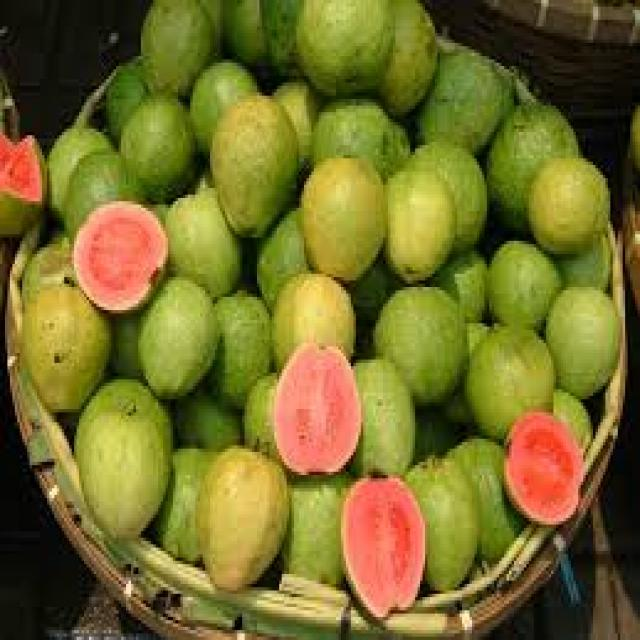organic waste: (198, 439, 284, 594), (339, 465, 425, 617), (208, 89, 299, 231), (79, 399, 168, 541), (20, 274, 111, 412), (270, 336, 358, 472), (368, 277, 465, 399), (400, 448, 480, 594), (484, 103, 578, 225), (299, 145, 381, 281), (69, 195, 166, 306), (133, 270, 215, 396), (415, 46, 514, 149), (524, 148, 613, 258), (462, 320, 554, 426), (499, 406, 578, 521), (291, 0, 393, 89), (153, 439, 225, 564), (450, 436, 521, 558), (119, 89, 198, 198), (541, 284, 615, 399), (381, 158, 452, 277), (163, 178, 240, 287), (272, 468, 343, 584), (408, 132, 484, 237), (267, 267, 351, 360), (348, 353, 412, 472), (57, 138, 133, 238), (186, 56, 260, 155), (375, 0, 437, 115), (208, 284, 272, 392), (138, 0, 215, 89), (252, 188, 306, 313), (430, 317, 492, 422), (484, 234, 556, 324), (163, 370, 247, 446), (45, 122, 116, 205), (0, 125, 44, 237), (270, 73, 322, 158), (217, 0, 277, 73), (432, 244, 487, 320), (99, 53, 148, 138), (240, 366, 282, 452), (259, 0, 304, 73), (15, 234, 69, 284), (549, 386, 588, 449), (556, 241, 610, 284), (410, 406, 450, 448), (628, 109, 638, 178)
